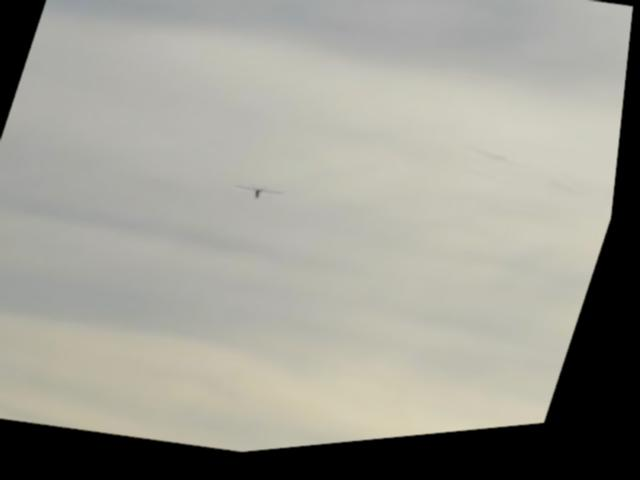uav: (230, 167, 299, 222)
